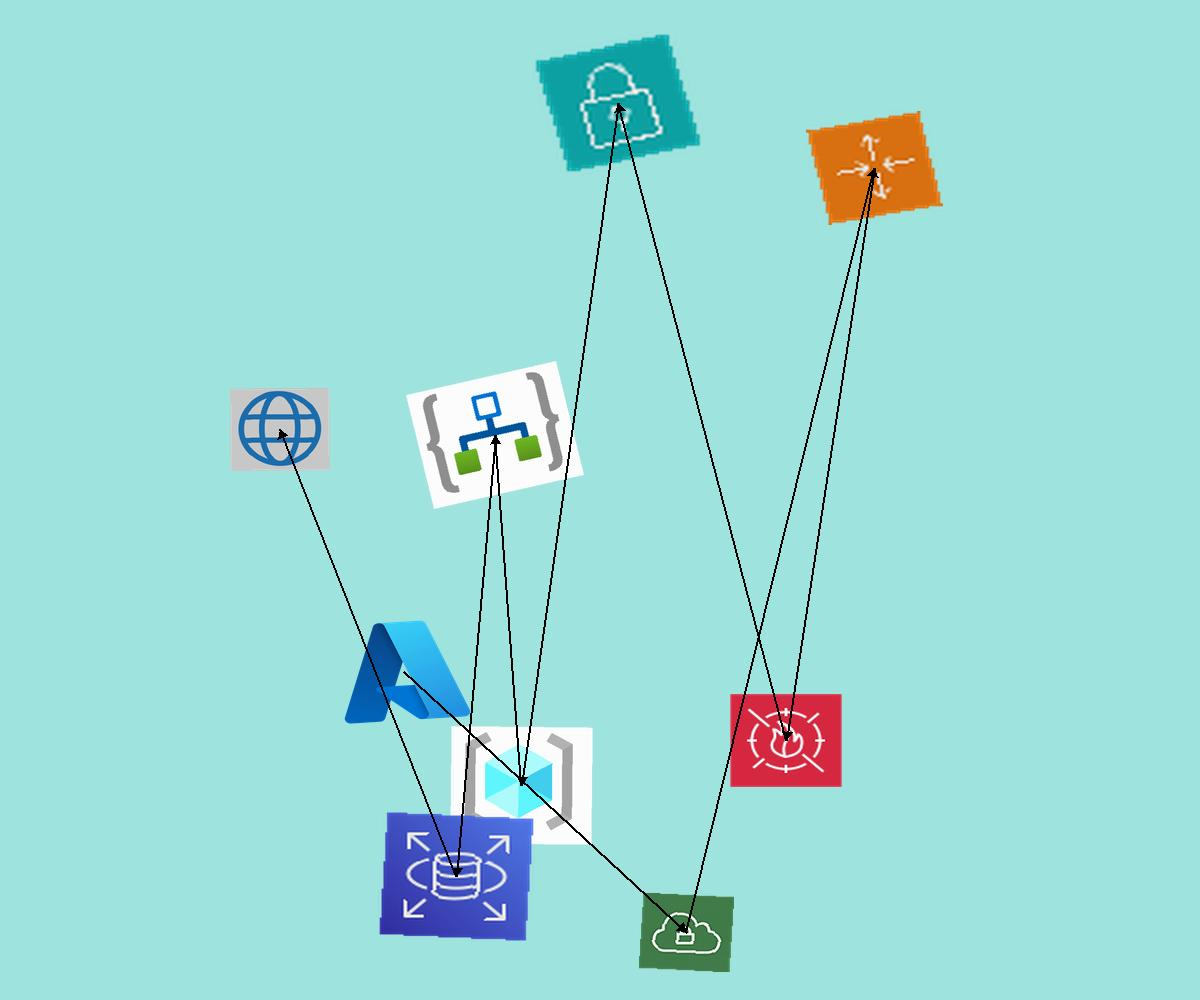AWS-Private-subnet: (533, 32, 703, 174)
AWS-Private_vpc: (638, 892, 735, 973)
AWS-RDS: (378, 811, 535, 942)
AWS-Scaling-group: (806, 111, 943, 225)
AWS-WAF: (729, 693, 843, 788)
Azure_http: (230, 388, 330, 471)
Azure_integration-204-Logic-Apps: (406, 361, 584, 509)
Azure_resource_group: (450, 726, 593, 845)
Azure_services: (330, 610, 477, 732)
